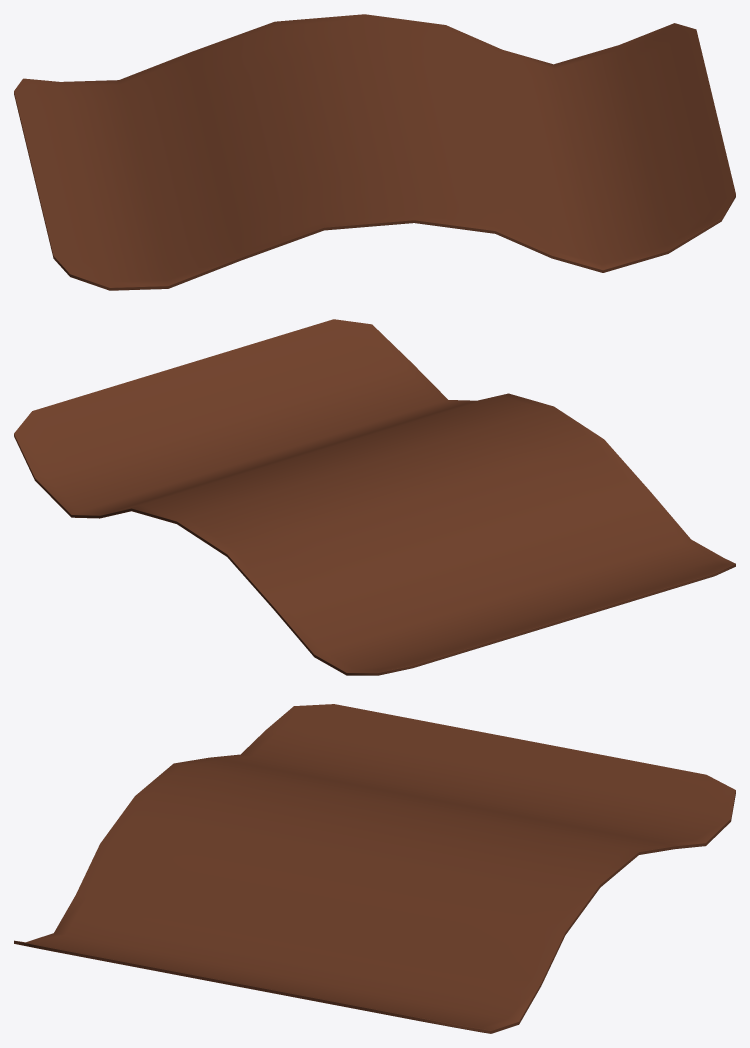
File: fallenAnimalSkin.glb
The picture shows the model from 3 angles, top to bottom: view 1: azimuth 30°, elevation 25°; view 2: azimuth 150°, elevation 25°; view 3: azimuth 270°, elevation 25°; orthographic projection. The views are drawn at different scales.
Visible parts, largest first — view 1: pasted__pCube5; view 2: pasted__pCube5; view 3: pasted__pCube5.
Part boxes in pixels (x1=…): pasted__pCube5: x1=14, y1=14, x2=735, y2=290; pasted__pCube5: x1=14, y1=319, x2=735, y2=675; pasted__pCube5: x1=14, y1=704, x2=735, y2=1033.
Size of the model in its own units: 4.38 by 0.3803 by 3.85.
Materials: 1 (1 with a texture image).
